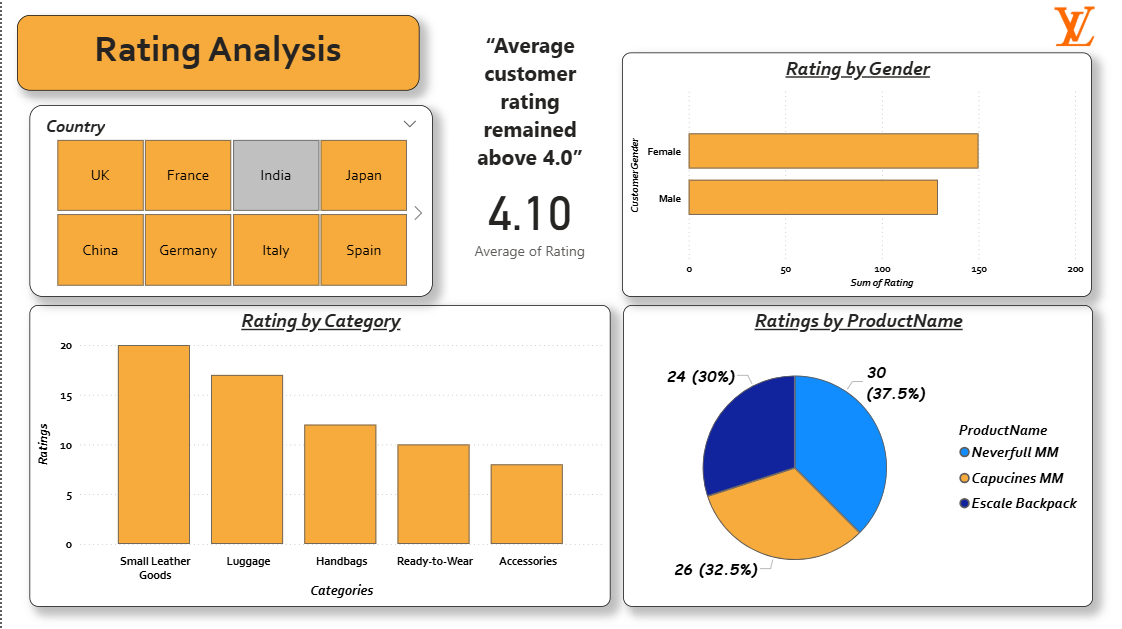

This screenshot's page, from the dashboard's own definition file:
{"tool":"powerbi","page":{"name":"Ratings","canvas":[1280,720],"ordinal":3},"visuals":[{"type":"textbox","box":[17.8,16.5,459.7,86.4],"z":0},{"type":"image","box":[1170.5,0,108.4,60.4],"z":1000},{"type":"columnChart","title":" Rating by Category","fields":{"Category":["Sheet1.Category"],"Y":["CountNonNull(Sheet1.Rating)"]},"box":[31.6,348.5,664.2,344.4],"z":2000},{"type":"slicer","fields":{"Values":["Sheet1.Country"]},"box":[31.6,119.4,461.1,219.6],"z":3000},{"type":"pieChart","title":"Ratings by ProductName","fields":{"Category":["Sheet1.ProductName"],"Y":["Sum(Sheet1.Rating)"]},"box":[709.4,348.5,536.5,344.4],"z":4000},{"type":"clusteredBarChart","title":"Rating by Gender","fields":{"Category":["Sheet1.CustomerGender"],"Y":["Sum(Sheet1.Rating)"]},"box":[709,60,537,279],"z":5000},{"type":"card","fields":{"Values":["Avg(Sheet1.Rating)"]},"box":[511.8,155.1,183.9,183.9],"z":6000},{"type":"textbox","box":[511.4,30,184.3,170],"z":6001}]}

Visuals, with their boxes in screenshot pixels (x1, y1, x2, y2), scaled from the page's 1280x720 canvas onto the 1122x629 screenshot:
textbox: (16,14,419,90)
image: (1026,0,1121,53)
" Rating by Category" columnChart: (28,304,610,605)
slicer - Sheet1.Country: (28,104,432,296)
"Ratings by ProductName" pieChart: (622,304,1092,605)
"Rating by Gender" clusteredBarChart: (621,52,1092,296)
card - Avg(Sheet1.Rating): (449,135,610,296)
textbox: (448,26,610,175)
